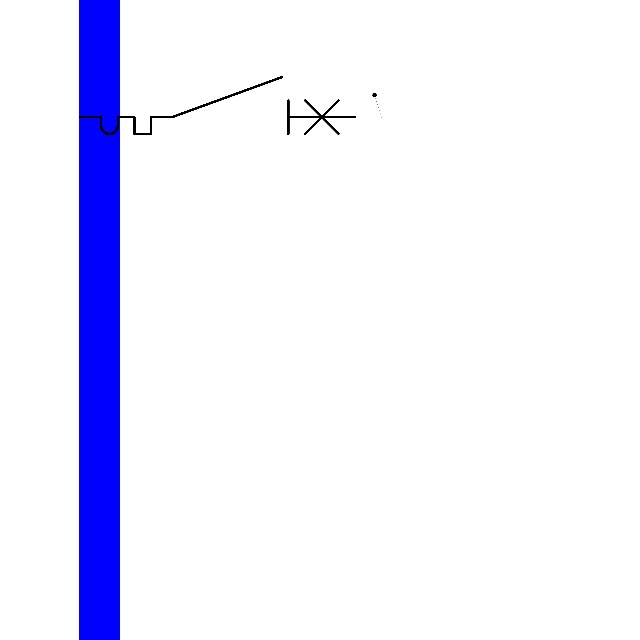interruptor_termomagnetico: (73, 70, 362, 141)
